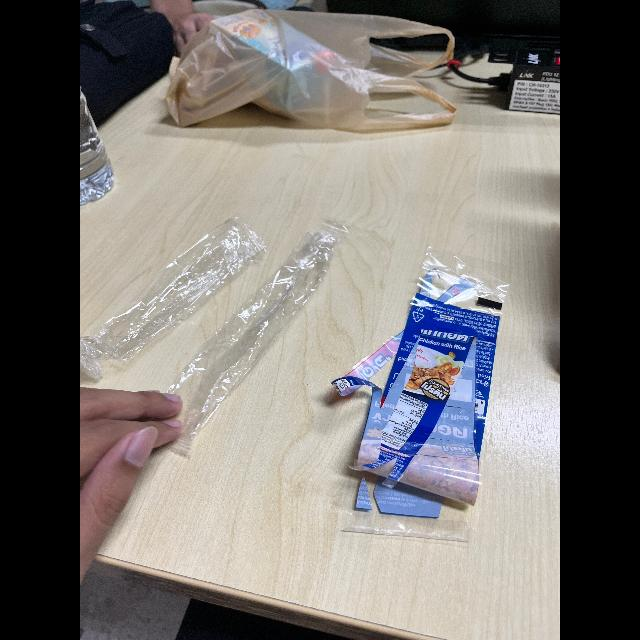scrap_plastic: (361, 242, 521, 546), (161, 216, 345, 442), (80, 205, 258, 373)
